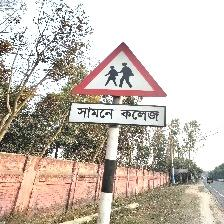College-in-front: (72, 35, 186, 144)
